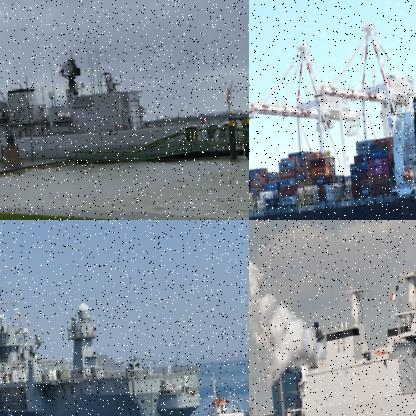Merchant Ship: (249, 83, 415, 219)
Military Ship: (0, 0, 241, 182), (0, 242, 204, 415), (249, 255, 415, 415)
Tugboat: (183, 369, 248, 415)
